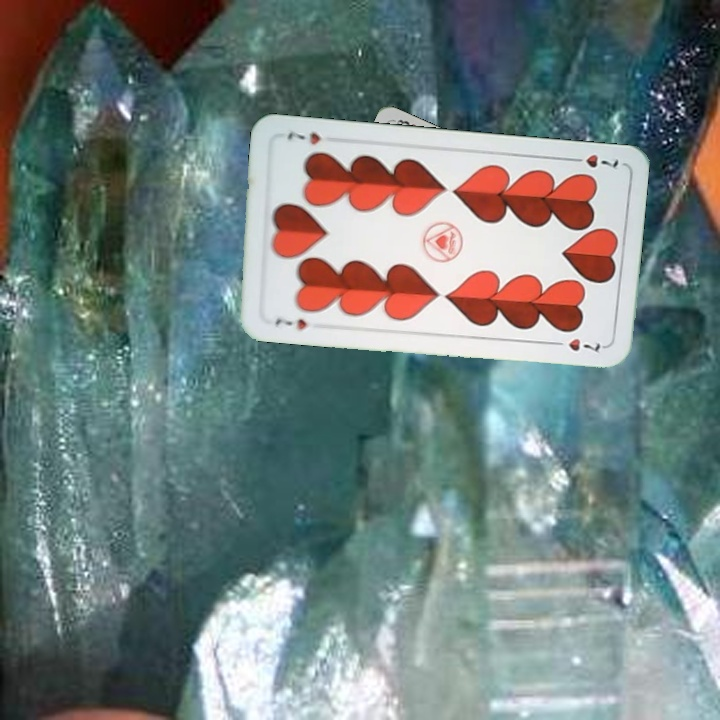H7: (564, 150, 621, 171), (271, 313, 309, 333)
